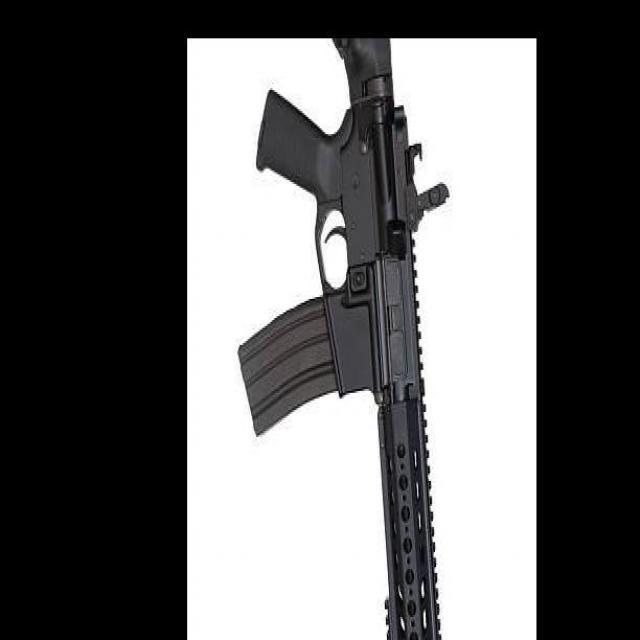weapon: (237, 39, 451, 640)
